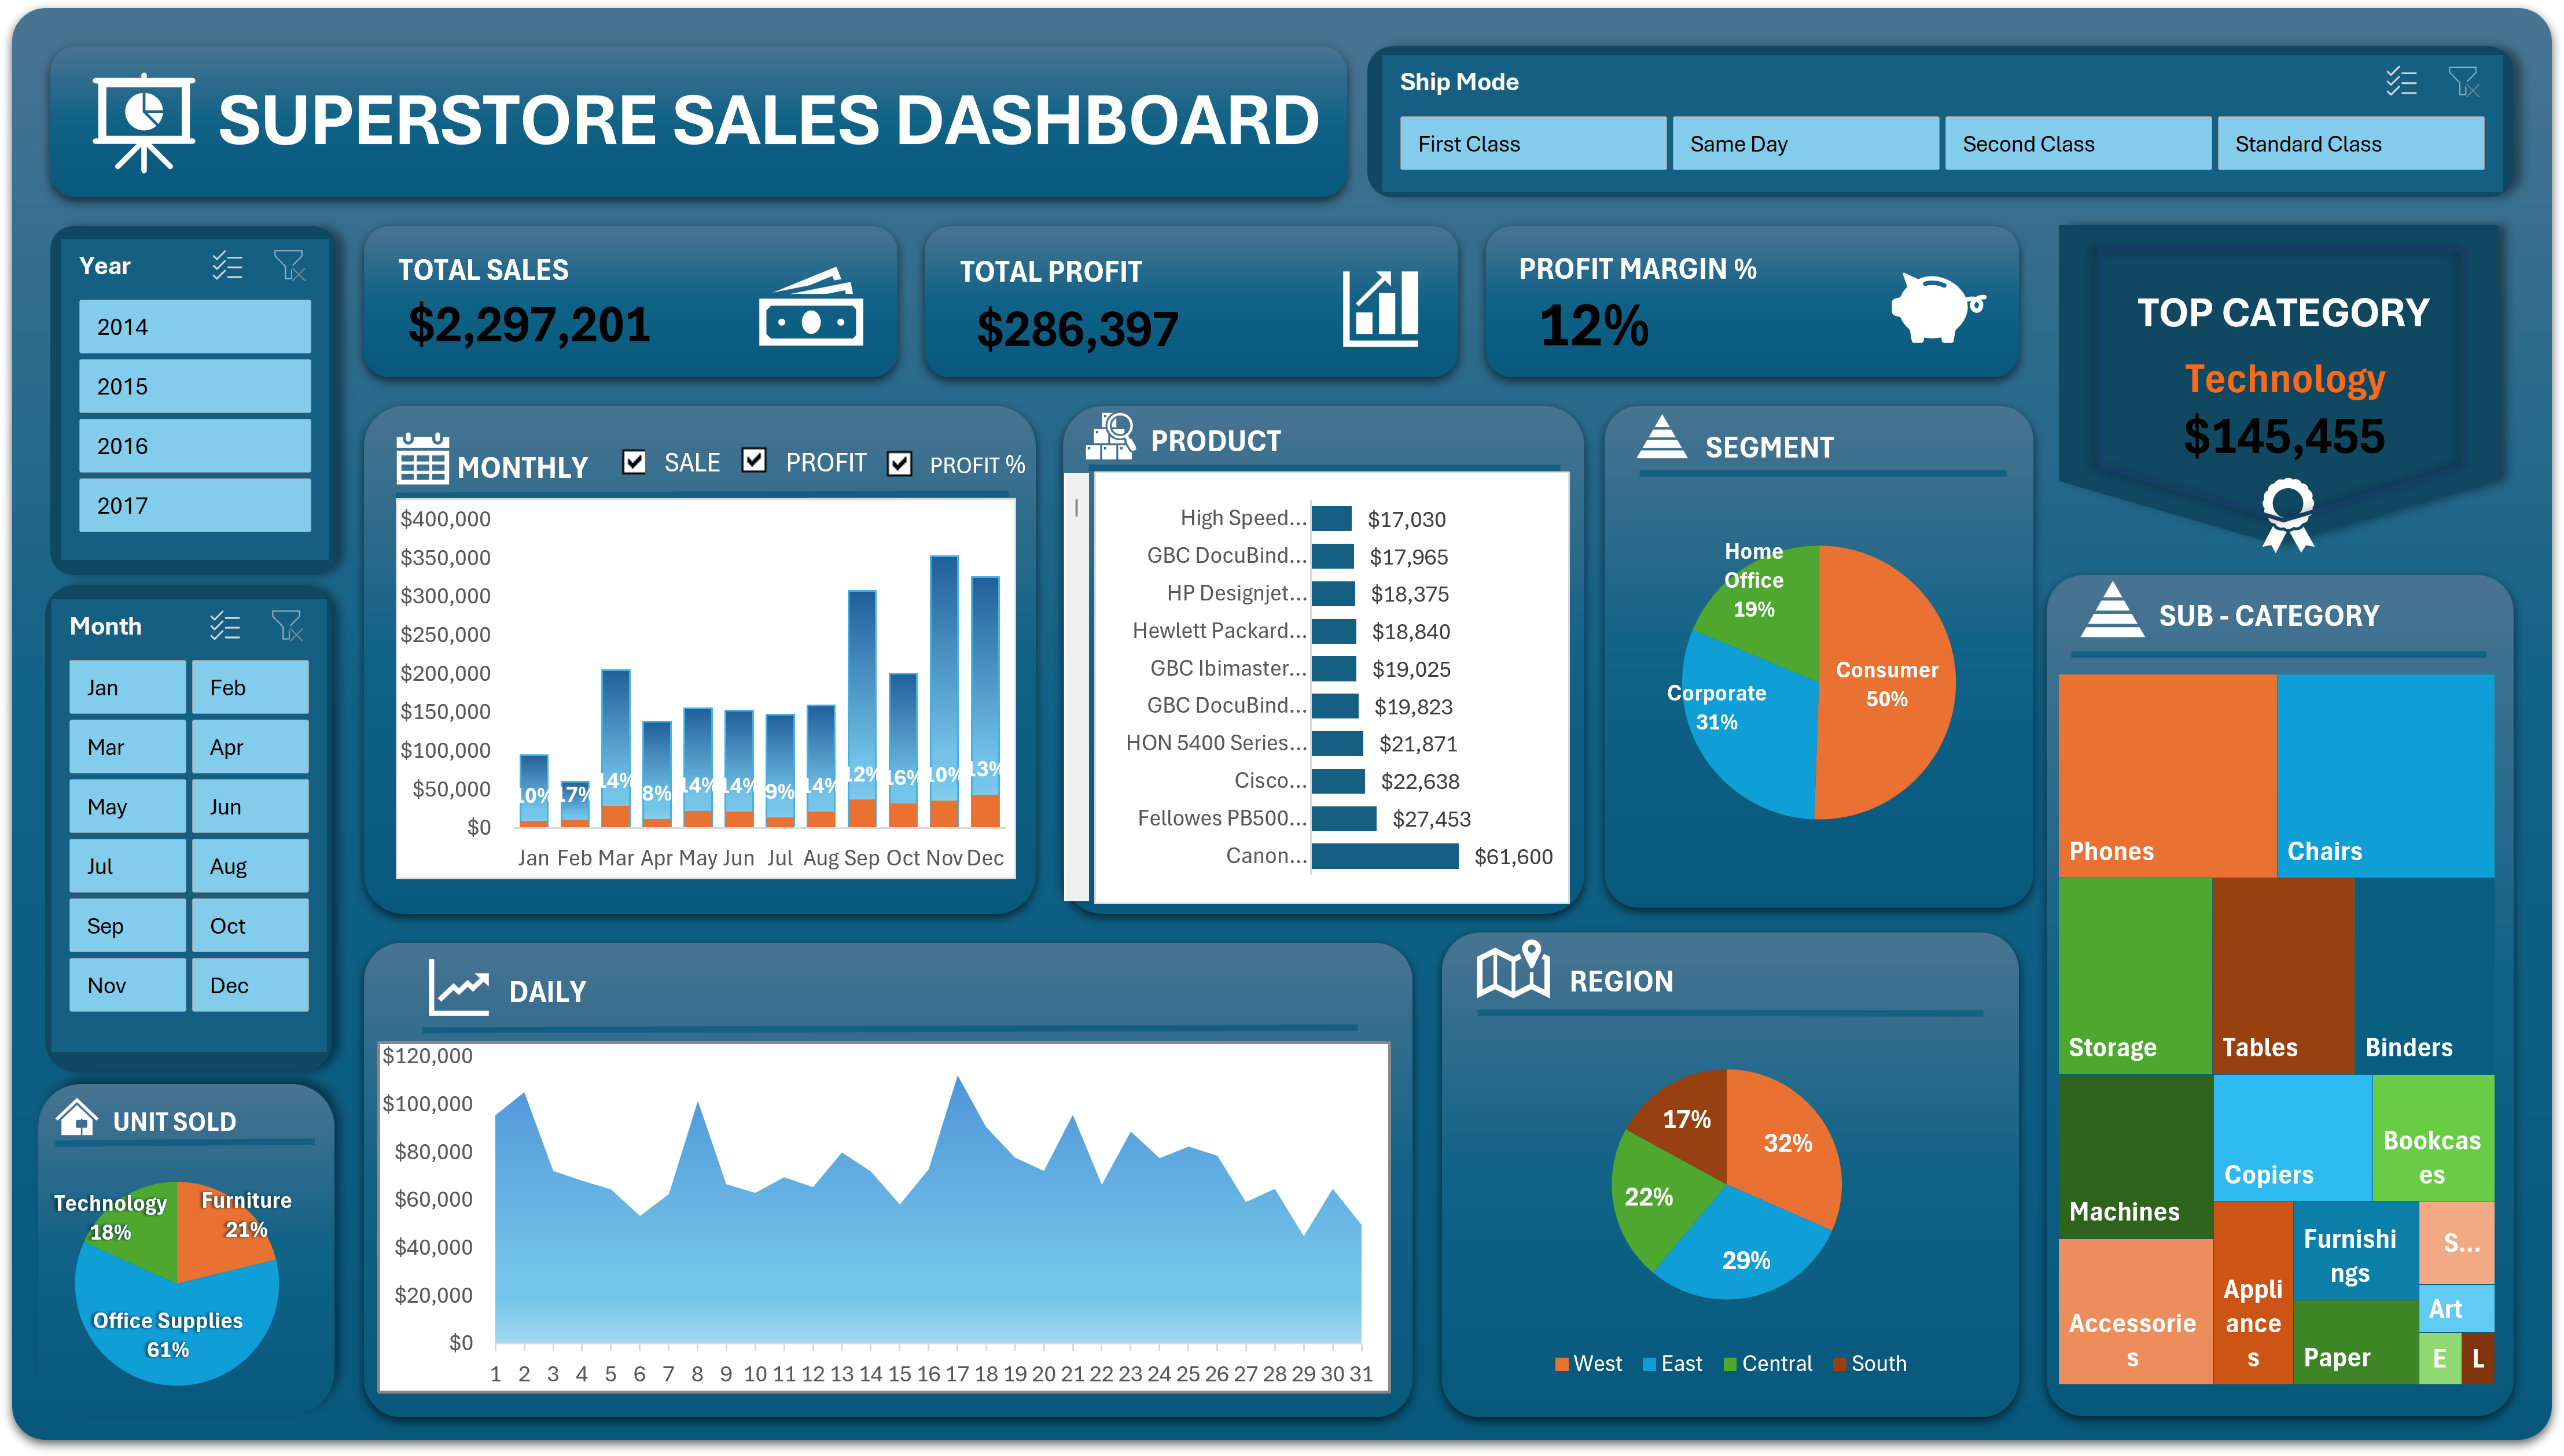

What the dashboard file says about the page in this screenshot:
{"tool":"powerbi","page":{"name":"Sales Report","canvas":[1920,1080],"ordinal":0},"visuals":[{"type":"shape","box":[140,0,1780,245],"z":0},{"type":"cardVisual","fields":{"Data":["_Measures.Total Sales","_Measures.Total Profit","_Measures.Total Orders","_Measures.Avg. Discount","_Measures.Quantity Sold"]},"box":[160,100,1412.5,145],"z":1000},{"type":"gauge","fields":{"Y":["_Measures.Profit Margin %"]},"box":[1590,62.5,330,182.5],"z":2000},{"type":"areaChart","fields":{"Category":["Dim_Dates.Day"],"Y":["_Measures.Total Sales"]},"box":[160,710,535,352.5],"z":3000},{"type":"columnChart","title":"Monthly Total Sales, Total Profit, Total Orders, Profit Margin % and Quantity Sold","fields":{"Y":["_Measures.Total Sales","_Measures.Total Profit","_Measures.Total Orders","_Measures.Profit Margin %","_Measures.Quantity Sold"],"Category":["Dim_Dates.Start of Month.Variation.Date Hierarchy.Month"]},"box":[160,350,535,342.5],"z":4000},{"type":"barChart","fields":{"Category":["Dim_Products.Product Name"],"Y":["_Measures.Total Sales","_Measures.Total Profit"]},"box":[712.5,262.5,630,430],"z":5000},{"type":"donutChart","fields":{"Y":["_Measures.Total Sales"],"Category":["Dim_Customers.Region"]},"box":[710,710,295,352.5],"z":6000},{"type":"donutChart","fields":{"Y":["_Measures.Total Sales"],"Category":["Dim_Customers.Segment"]},"box":[1027.5,710,315,352.5],"z":7000},{"type":"treemap","fields":{"Values":["_Measures.Total Sales"],"Details":["Dim_Products.Sub-Category"],"Group":["Dim_Products.Category"]},"box":[1360,265,560,797.5],"z":8000},{"type":"shape","box":[0,0,140,1080],"z":9000},{"type":"advancedSlicerVisual","fields":{"Values":["Measures Selector.Measures Selector"]},"box":[160,265,535,77.5],"z":10000},{"type":"advancedSlicerVisual","fields":{"Values":["Dim_Dates.Year"]},"box":[7.5,245,125,300],"z":11000},{"type":"textbox","box":[160,0,1275,82.5],"z":12000},{"type":"advancedSlicerVisual","fields":{"Values":["Dim_Dates.Month"]},"box":[7.5,575,125,457.5],"z":13000},{"type":"image","box":[10,0,117.5,122.5],"z":14000}]}

Visuals, with their boxes in screenshot pixels (x1, y1, x2, y2), scaled from the page's 1920x1080 canvas onto the 2564x1456 screenshot:
shape: box(187, 0, 2563, 330)
cardVisual - _Measures.Total Sales x _Measures.Total Profit: box(214, 135, 2100, 330)
gauge - _Measures.Profit Margin %: box(2123, 84, 2563, 330)
areaChart - Dim_Dates.Day x _Measures.Total Sales: box(214, 957, 928, 1432)
"Monthly Total Sales, Total Profit, Total Orders, Profit Margin % and Quantity Sold" columnChart: box(214, 472, 928, 934)
barChart - Dim_Products.Product Name x _Measures.Total Sales: box(951, 354, 1793, 934)
donutChart - _Measures.Total Sales x Dim_Customers.Region: box(948, 957, 1342, 1432)
donutChart - _Measures.Total Sales x Dim_Customers.Segment: box(1372, 957, 1793, 1432)
treemap - _Measures.Total Sales x Dim_Products.Sub-Category: box(1816, 357, 2563, 1432)
shape: box(0, 0, 187, 1455)
advancedSlicerVisual - Measures Selector.Measures Selector: box(214, 357, 928, 462)
advancedSlicerVisual - Dim_Dates.Year: box(10, 330, 177, 735)
textbox: box(214, 0, 1916, 111)
advancedSlicerVisual - Dim_Dates.Month: box(10, 775, 177, 1392)
image: box(13, 0, 170, 165)
